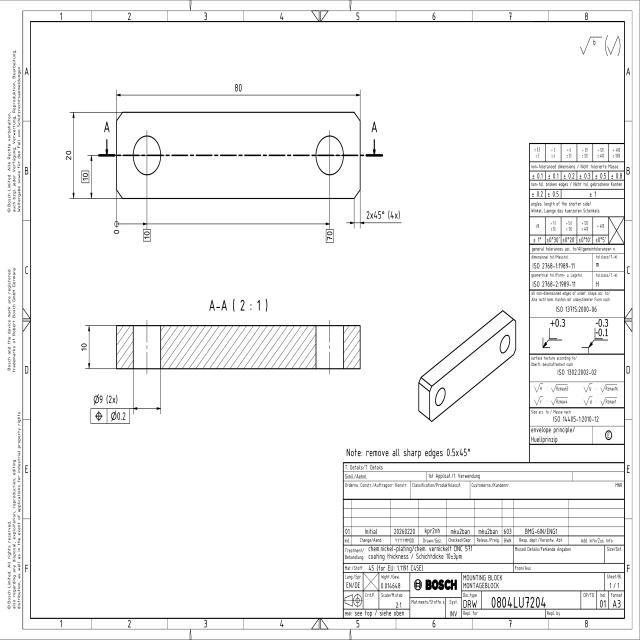dimension: (365, 208, 401, 222), (92, 392, 119, 406), (112, 220, 120, 236), (64, 148, 72, 162), (143, 228, 151, 242), (326, 228, 333, 243), (82, 170, 90, 183), (234, 82, 243, 93), (79, 342, 88, 353)
